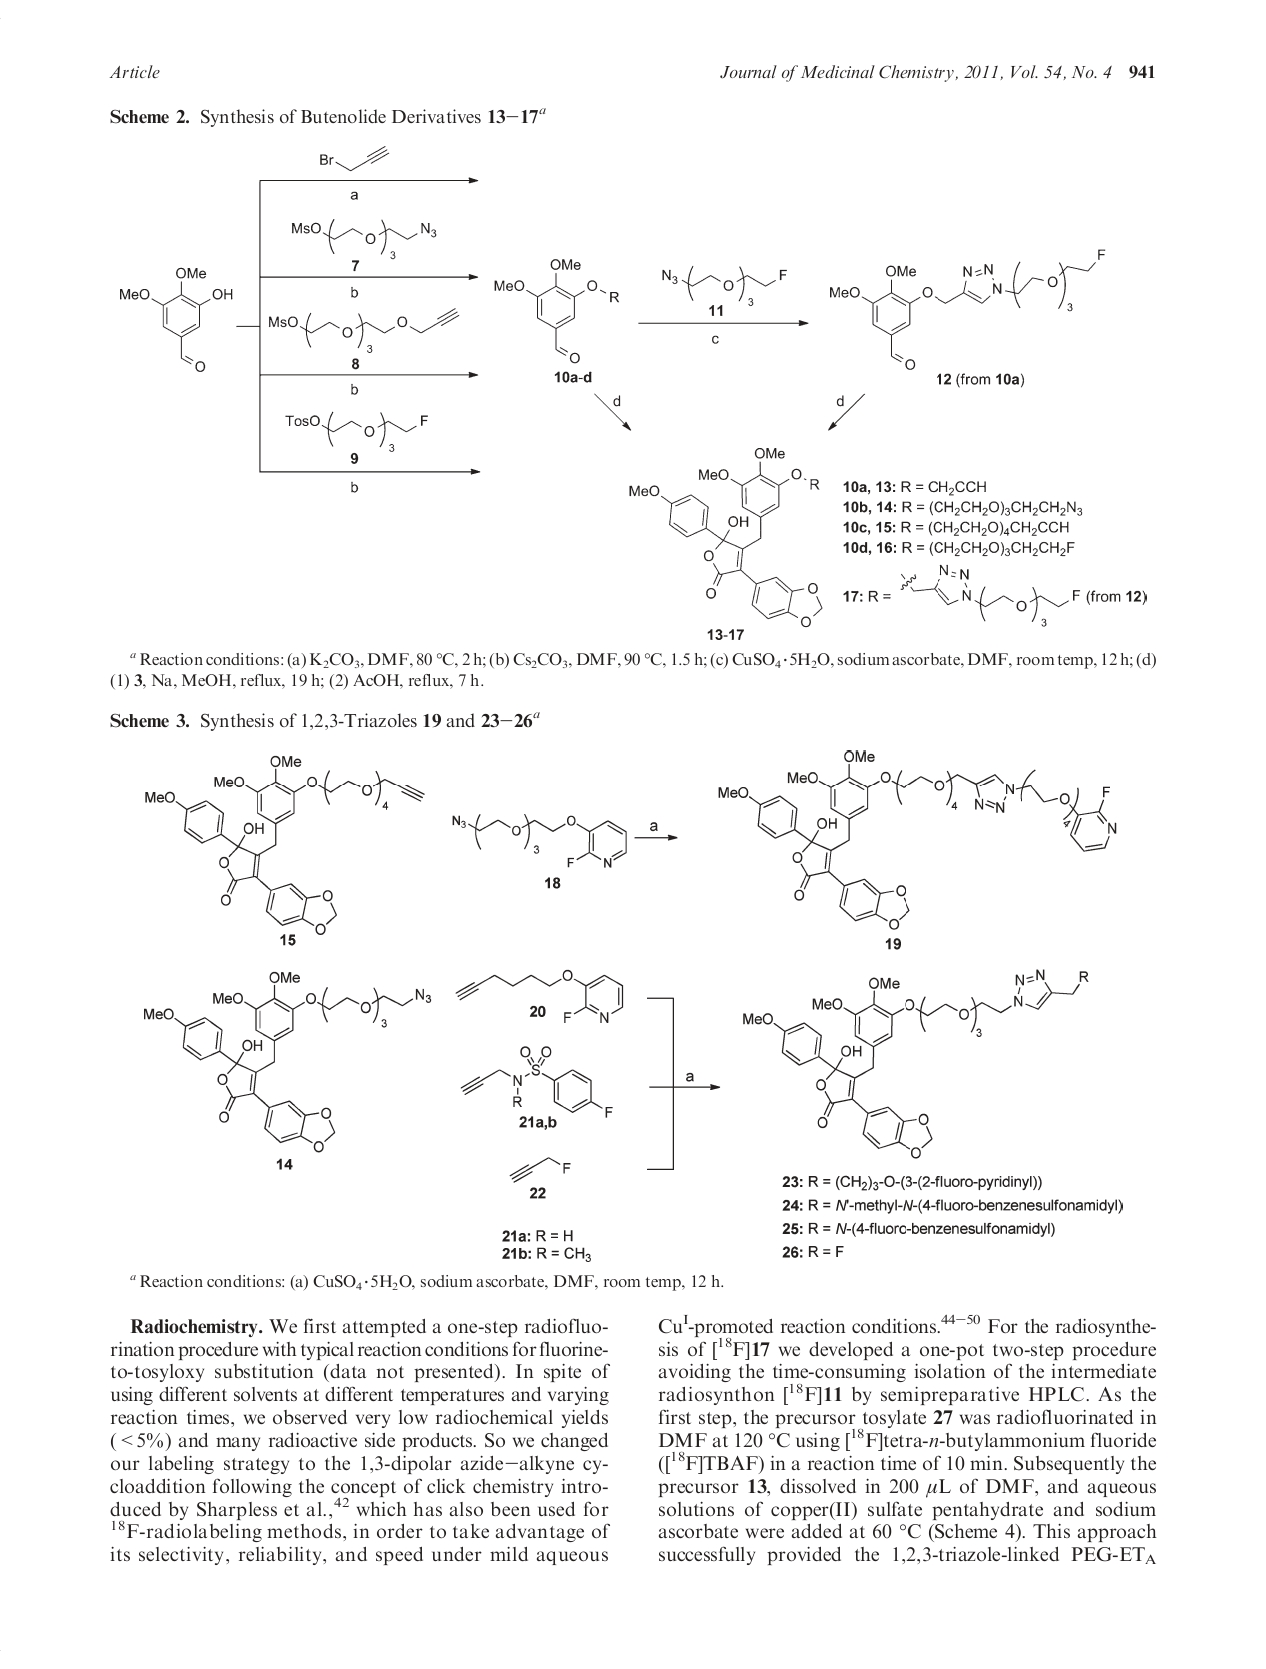exist_molecular: (714, 743, 1120, 931), (739, 969, 1090, 1160), (138, 968, 436, 1156), (141, 750, 427, 935), (626, 446, 824, 629), (826, 245, 1109, 370), (491, 255, 622, 366), (114, 259, 234, 379), (896, 560, 1084, 632), (457, 1044, 614, 1126), (445, 805, 633, 868), (453, 965, 629, 1028), (266, 303, 461, 356), (282, 402, 431, 453), (289, 210, 439, 261), (658, 261, 789, 310), (310, 141, 392, 177), (501, 1146, 577, 1185)
